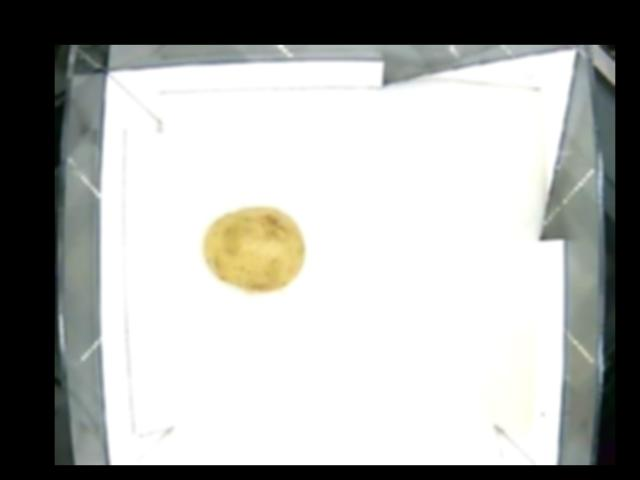Potato: (200, 205, 304, 290)
